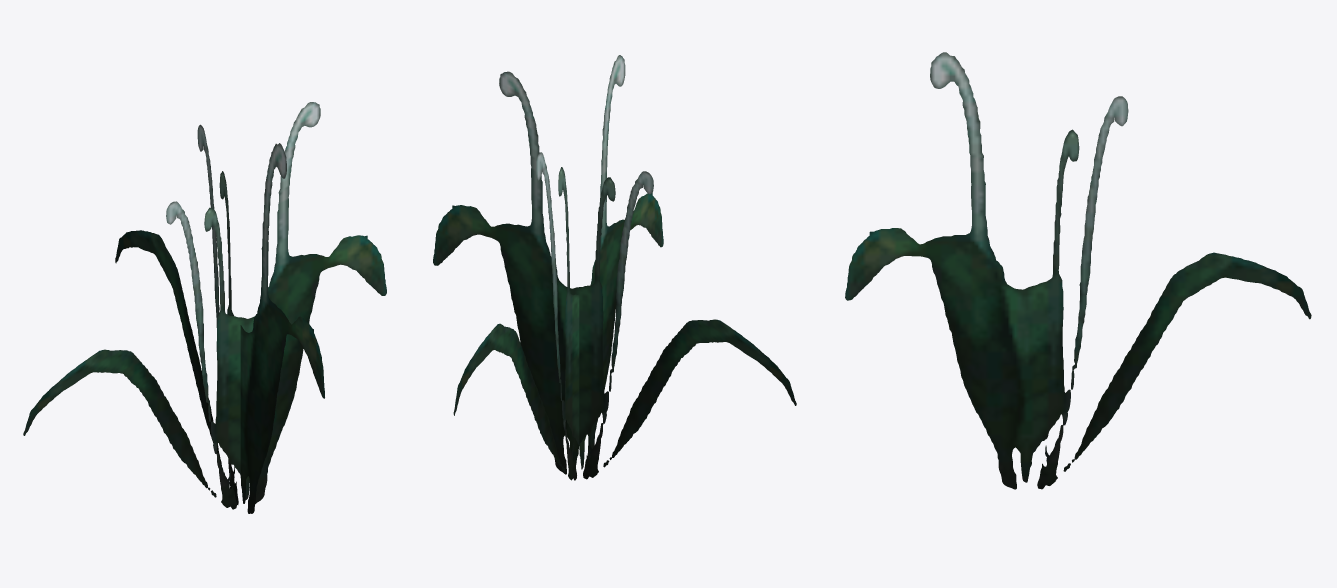
The model's file is leaf_dath_rinor_l2.fbx.
3 views of the same model, side by side, from view 1: azimuth 30°, elevation 25°; view 2: azimuth 150°, elevation 25°; view 3: azimuth 270°, elevation 25° (orthographic). The views are drawn at different scales.
Parts seen in each view (by area): view 1: mesh_node; view 2: mesh_node; view 3: mesh_node.
Part boxes in pixels (x1=…): mesh_node: x1=23, y1=102, x2=386, y2=513; mesh_node: x1=433, y1=55, x2=796, y2=480; mesh_node: x1=845, y1=52, x2=1311, y2=489.
Bounding box in the file's own units: 1.7 × 1.77 × 1.7.
1 material, 1 textured.
